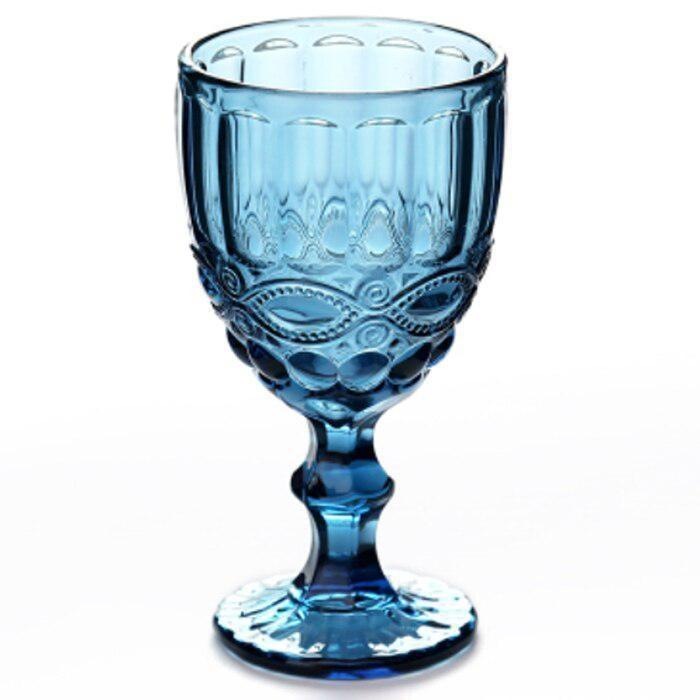glass-wine: (172, 11, 509, 690)
